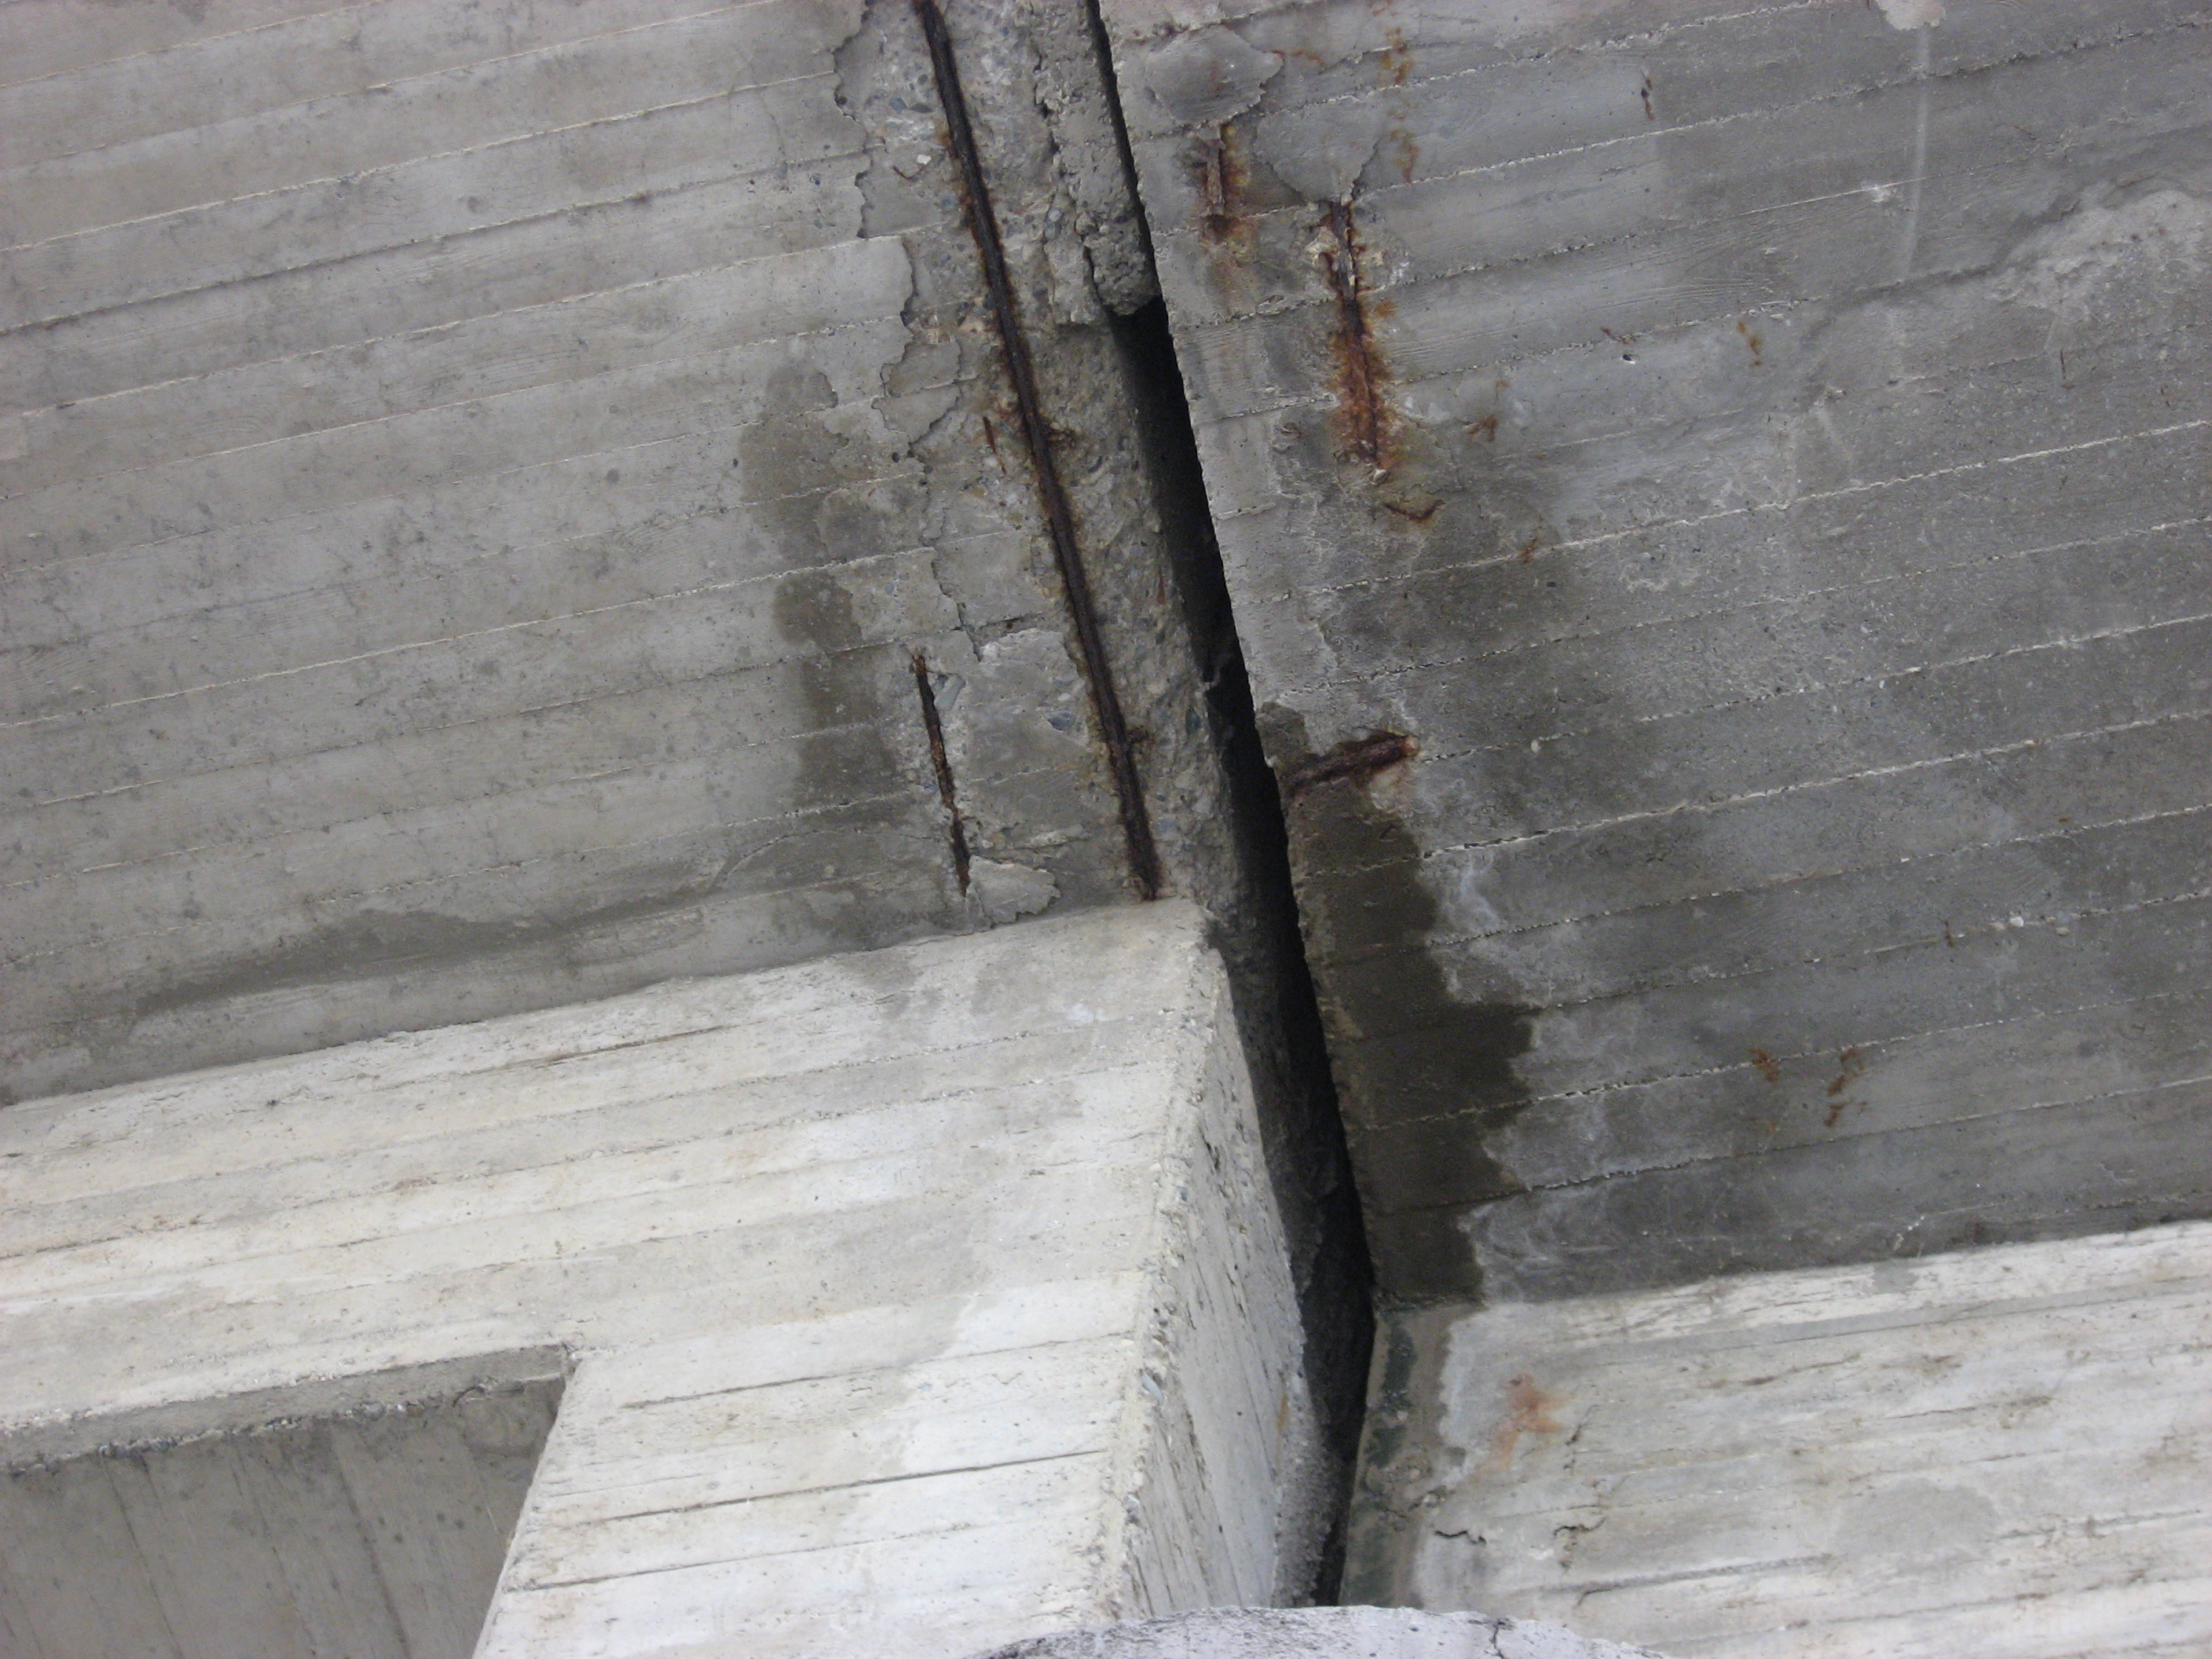defect: (826, 2, 1251, 911), (1264, 127, 1467, 530), (880, 640, 986, 901), (1252, 708, 1432, 798), (1184, 118, 1245, 254)
